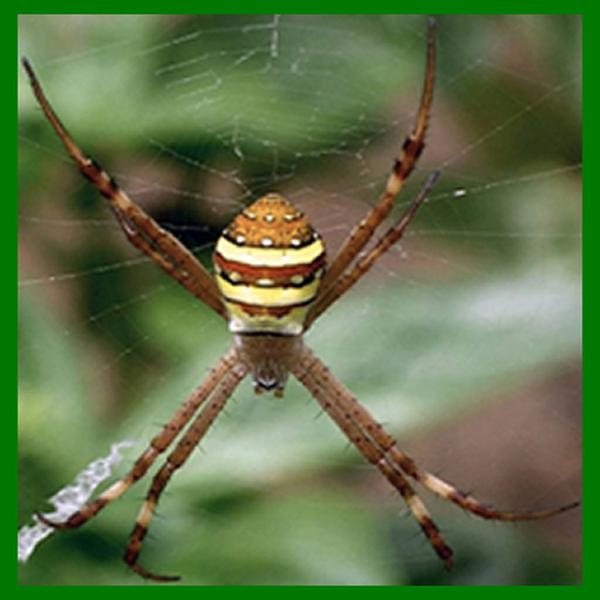St Andrew's Cross Spider: (31, 54, 549, 569)
